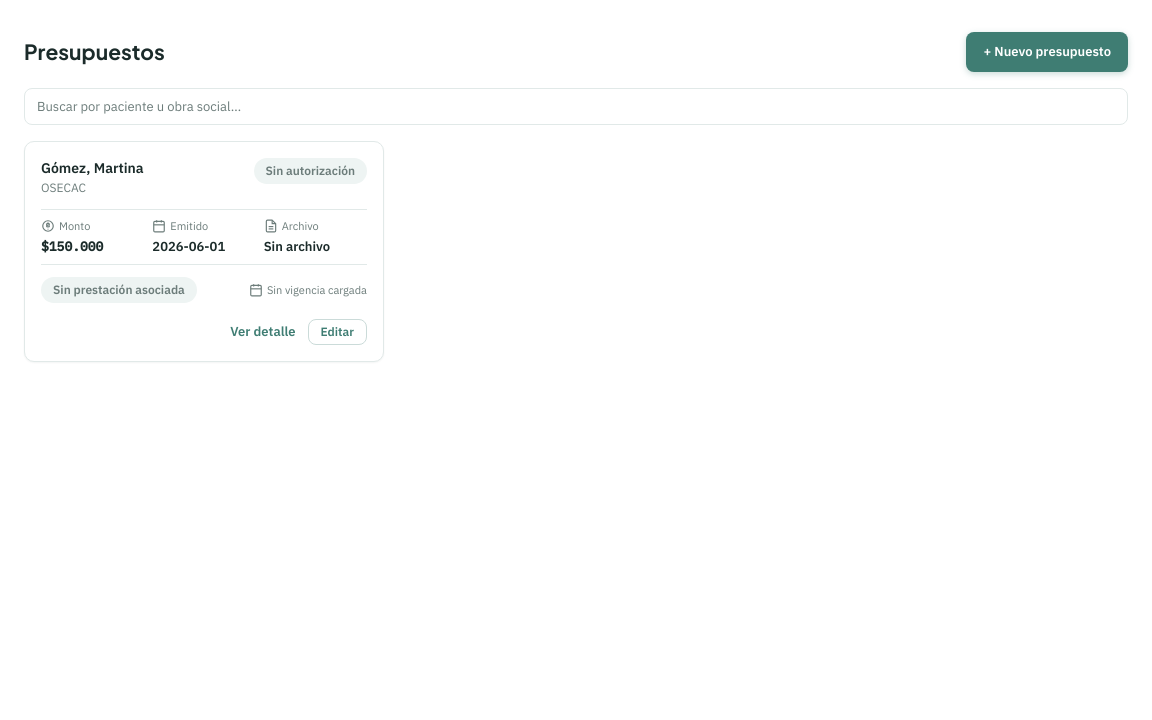
PresupuestosPage › navega al detalle de edición precargado al hacer click en "Editar"
Expected: the text "Gómez, Martina" is shown, [41,158,144,179]
Step 1. Click the button with aria-label "editar gómez, martina" → (337, 332), box [308,319,367,345]
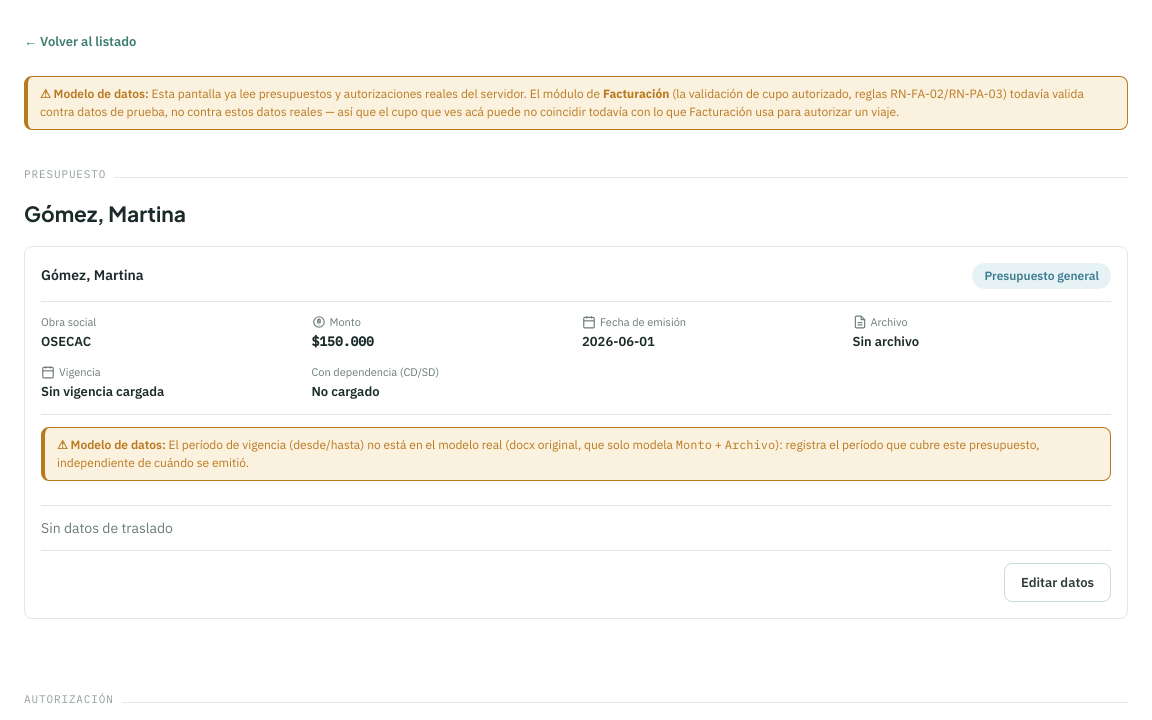
Expected: the heading "Gómez, Martina" is shown, [24,198,186,230]
